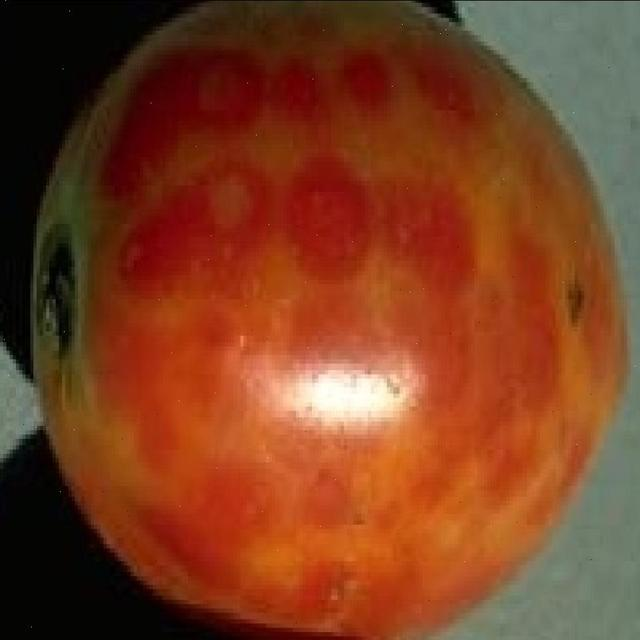Spotted wilt Virus Fruit: (20, 0, 424, 425)
